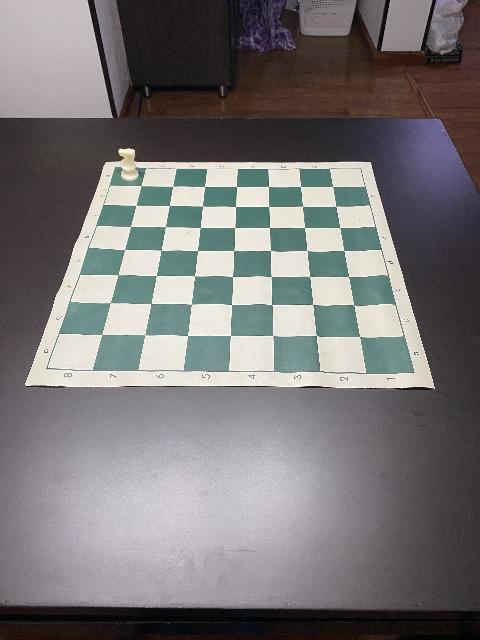board: (25, 154, 436, 390)
white-knight: (118, 147, 138, 181)
